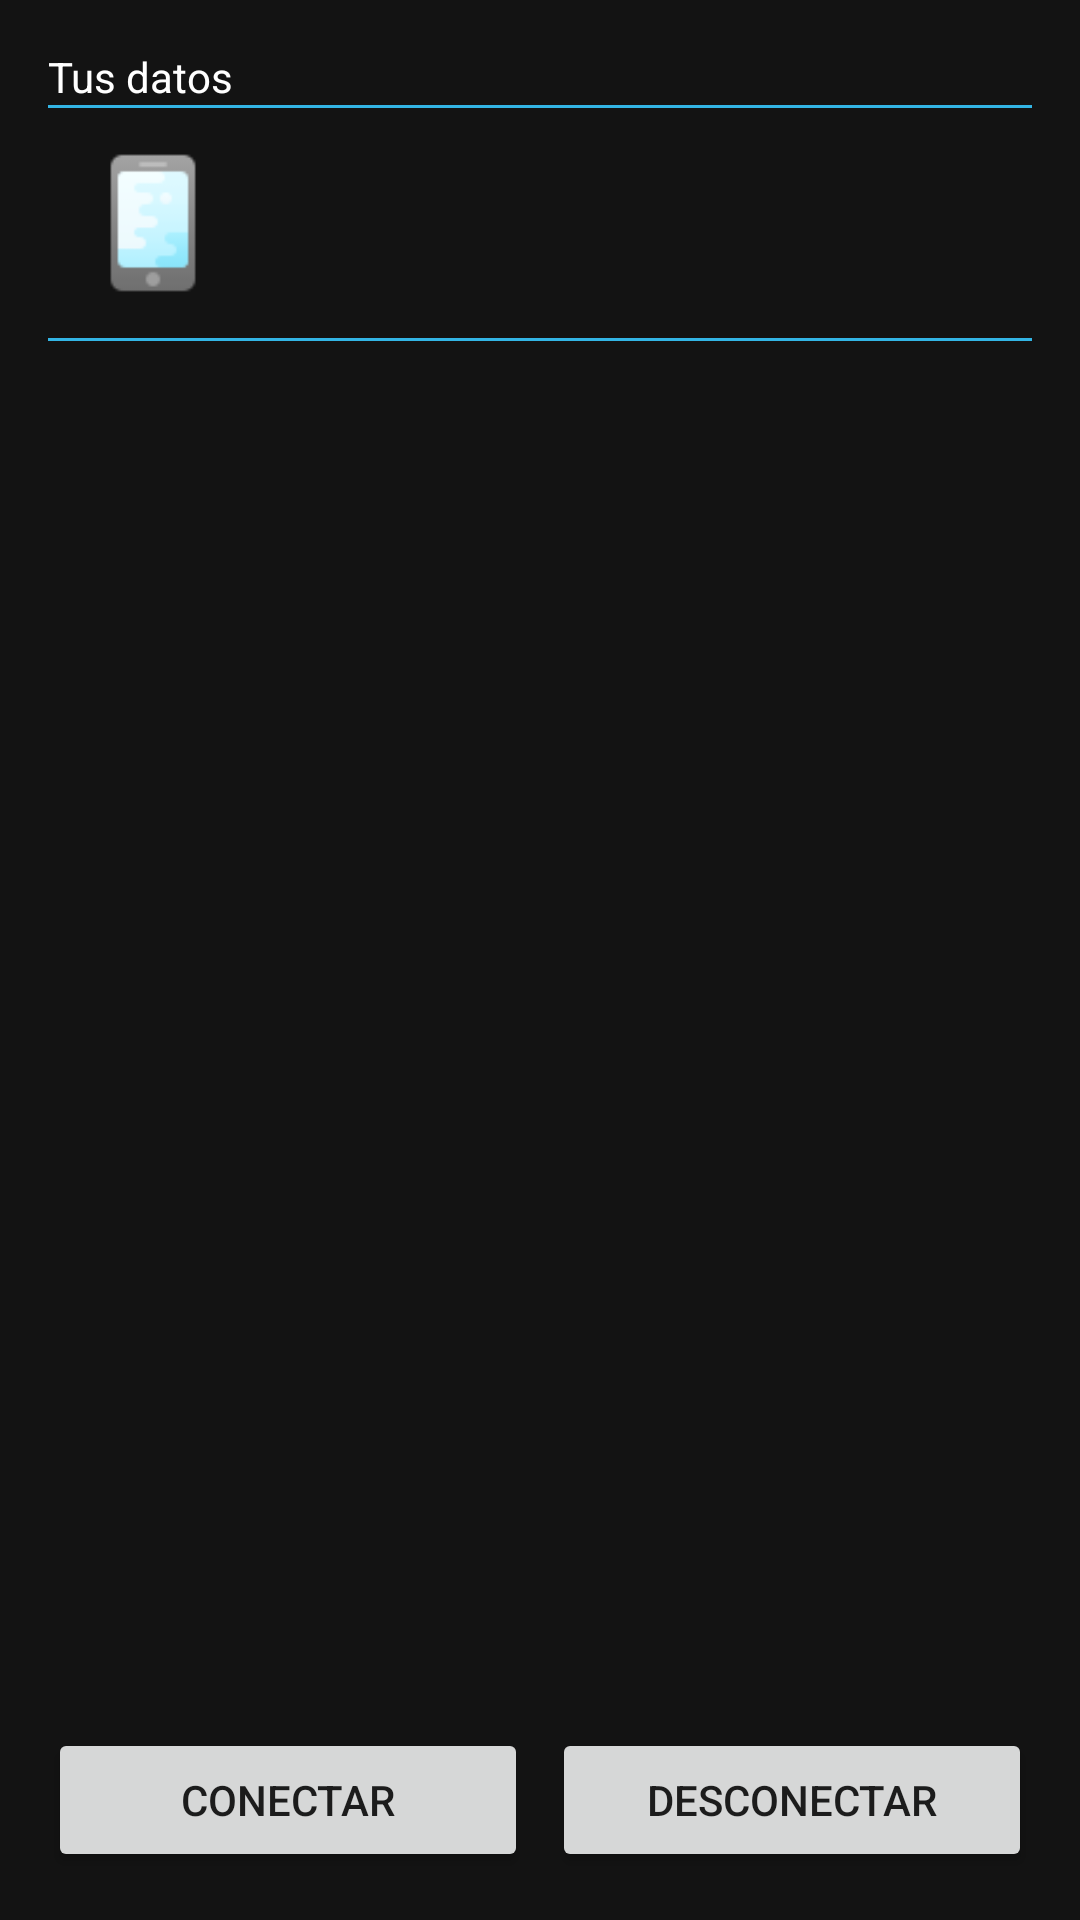

Locate icon controls on the screen. Image size 1080×1920, boxes as (x1, y1, x2, y2).
phone: (110, 154, 196, 292)
